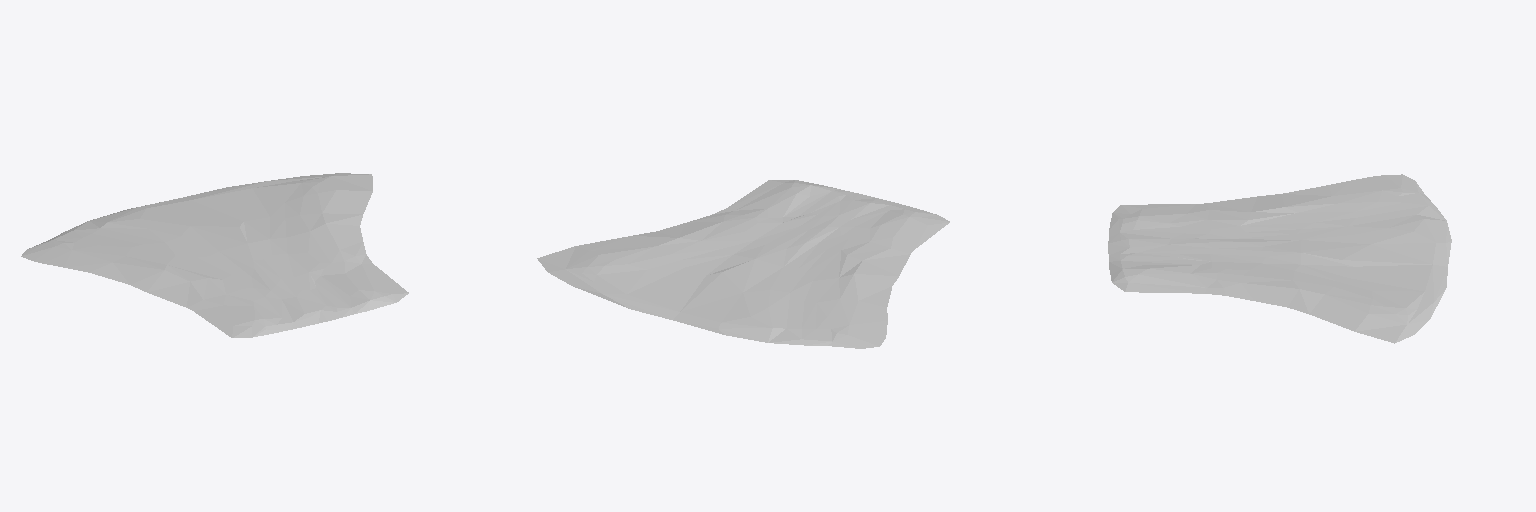
The model's file is SM_Env_Road_Gravel_End_01.obj.
3 renders of one model, left to right at view 1: azimuth 30°, elevation 25°; view 2: azimuth 150°, elevation 25°; view 3: azimuth 270°, elevation 25°, orthographic.
Size of the model in its own units: 1754 by 56.26 by 1502.